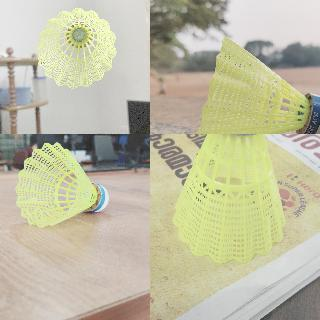shuttlecock: (173, 134, 286, 263), (194, 34, 319, 133), (15, 142, 107, 228), (36, 8, 116, 88)
